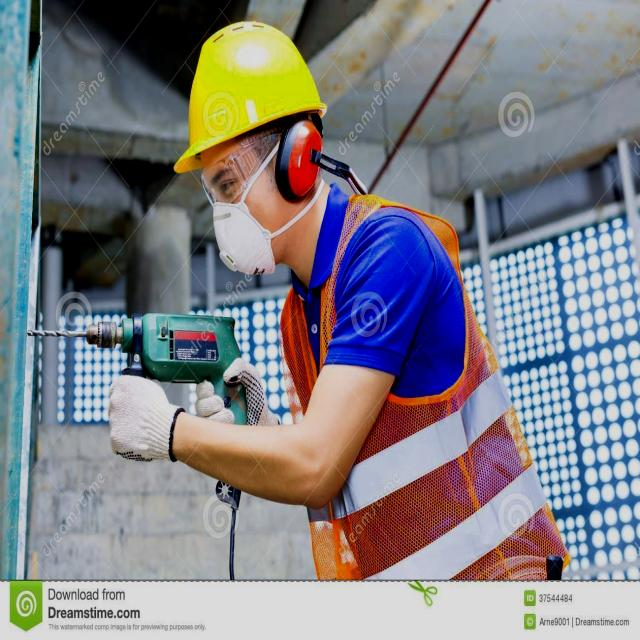face_mask: (196, 151, 297, 297)
glasses: (196, 149, 252, 213)
hand_glove: (103, 372, 184, 464), (195, 358, 277, 442)
head_helmet: (169, 23, 325, 168)
person: (174, 27, 564, 576)
vest: (300, 208, 550, 574)
